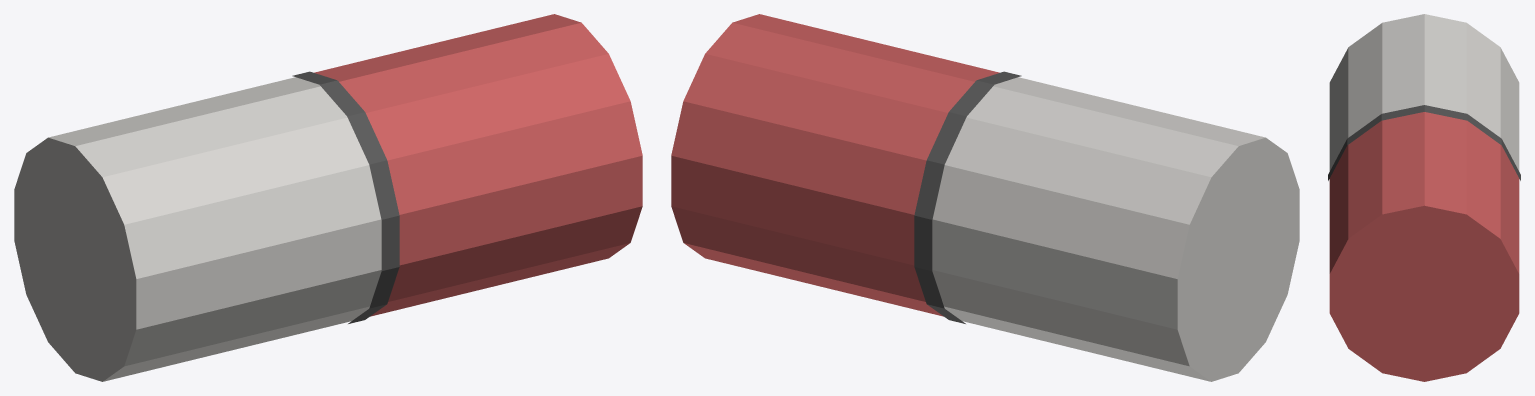
The model's file is pilula.glb.
3 renders of one model, left to right at view 1: azimuth 30°, elevation 25°; view 2: azimuth 150°, elevation 25°; view 3: azimuth 270°, elevation 25°, orthographic. The views are drawn at different scales.
Visible parts, largest first — view 1: pilula; view 2: pilula; view 3: pilula.
Part boxes in pixels (bbox=[...]): pilula: bbox=[14, 14, 642, 381]; pilula: bbox=[671, 14, 1299, 381]; pilula: bbox=[1328, 14, 1520, 381].
Bounding box in the file's own units: 0.28 × 0.122 × 0.1189.
